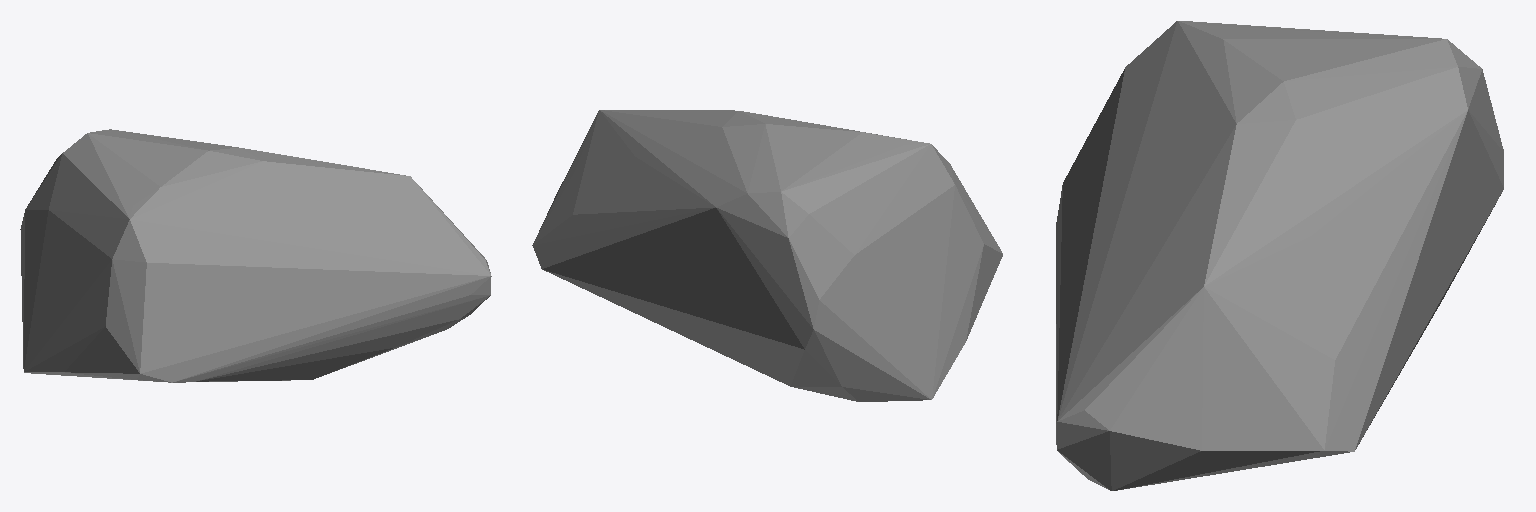
The robot description file, URDF, robot "90_218":
<?xml version="1.0"?>
<robot name="90_218">
  <link name="link">
    <contact>
      <lateral_friction value="0.6"/>
    </contact>
    <inertial>
      <origin xyz="-0.005940124588730031 -0.003373955454205803 -0.0036791083733849375" rpy="0 0 0"/>
      <mass value = "0.440243528774061"/>
      <inertia ixx="0.00018028537014014632" ixy="-4.704870458759702e-05" ixz="-1.3348468604283798e-05" iyy="0.0003397089346130356" iyz="1.523939352810576e-05" izz="0.0003883033046673893" />
    </inertial>
    <visual name="visual">
      <geometry>
        <mesh filename="90_218.obj"/>
      </geometry>
      <material name="material">
        <color rgba="0.5970494776077865 0.5970494776077865 0.5970494776077865 1.0"/>
      </material>
    </visual>
    <collision name="collision">
      <geometry>
        <mesh filename="90_218.obj"/>
      </geometry>
    </collision>
  </link>
</robot>

--- What the picture shows (computed from the rendered views, not written in the file) ---
Views: 3 orthographic renders of the robot side by side, from view 1: azimuth 30°, elevation 25°; view 2: azimuth 150°, elevation 25°; view 3: azimuth 270°, elevation 25°.
Model 90_218 with 1 links and 0 joints (none), rooted at link, posed every joint at zero.
Links seen in each view (by area): view 1: link; view 2: link; view 3: link.
Link boxes in pixels (bbox=[...]): link: bbox=[20, 129, 491, 382]; link: bbox=[532, 110, 1002, 401]; link: bbox=[1056, 21, 1503, 490].
Size in the robot's own frame: 0.1078 by 0.0708 by 0.0515 metres.
Meshes: 1 distinct files referenced, 1 mesh visuals loaded (1 OBJ).
